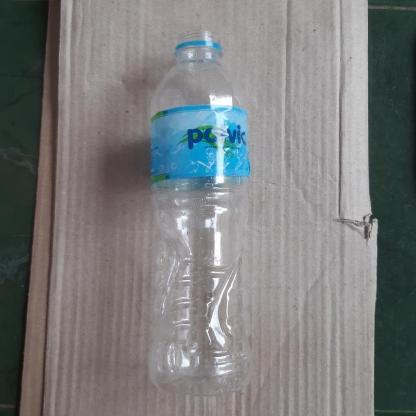Plastic Bottle: (150, 28, 250, 393)
